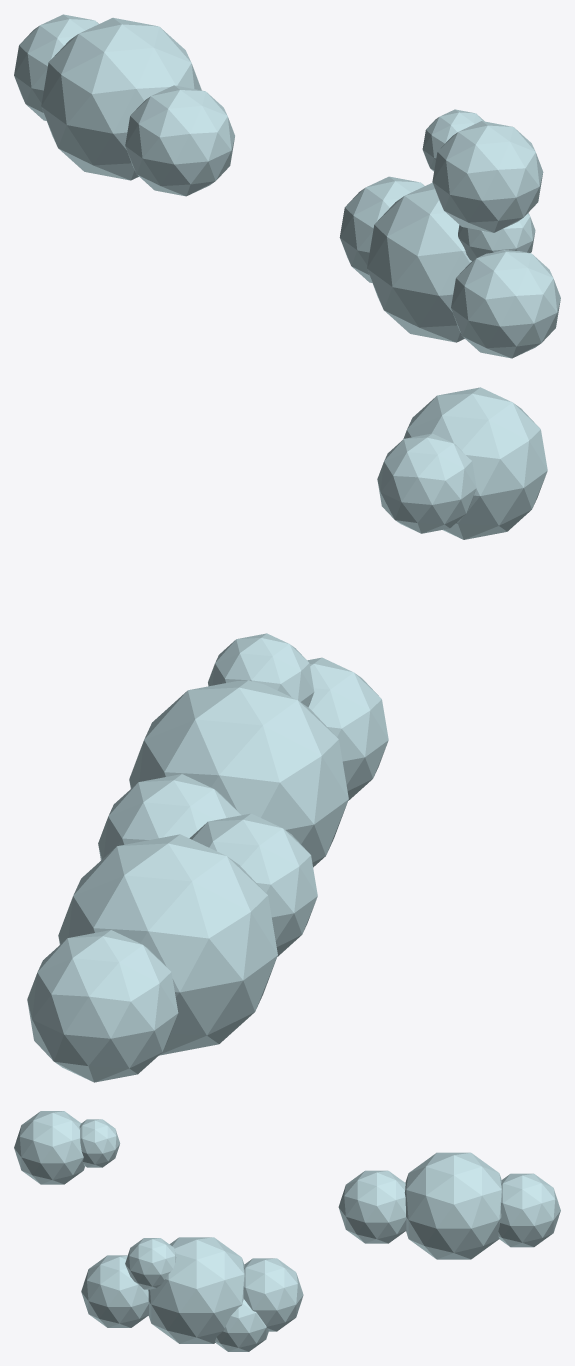
3 views of the same model, one above another, from view 1: azimuth 30°, elevation 25°; view 2: azimuth 150°, elevation 25°; view 3: azimuth 270°, elevation 25° (orthographic). The views are drawn at different scales.
Visible parts, largest first — view 1: Icosphere, Icosphere.005, Icosphere.001, Icosphere.006, Icosphere.007; view 2: Icosphere, Icosphere.005, Icosphere.001, Icosphere.007, Icosphere.006; view 3: Icosphere, Icosphere.005, Icosphere.001, Icosphere.006, Icosphere.007.
Part boxes in pixels (x1,y1,x2,y2): Icosphere: (339,176,560,358); Icosphere.005: (41,17,201,180); Icosphere.001: (422,109,543,232); Icosphere.006: (125,85,234,196); Icosphere.007: (14,14,98,120); Icosphere: (98,633,388,867); Icosphere.005: (58,834,277,1055); Icosphere.001: (377,387,547,539); Icosphere.007: (27,930,178,1082); Icosphere.006: (189,813,317,956); Icosphere: (81,1237,303,1351); Icosphere.005: (404,1152,502,1259); Icosphere.001: (14,1111,120,1184); Icosphere.006: (338,1170,406,1243); Icosphere.007: (498,1173,560,1247).
Bounding box in the file's own units: 3.82 × 4.14 × 9.74.
